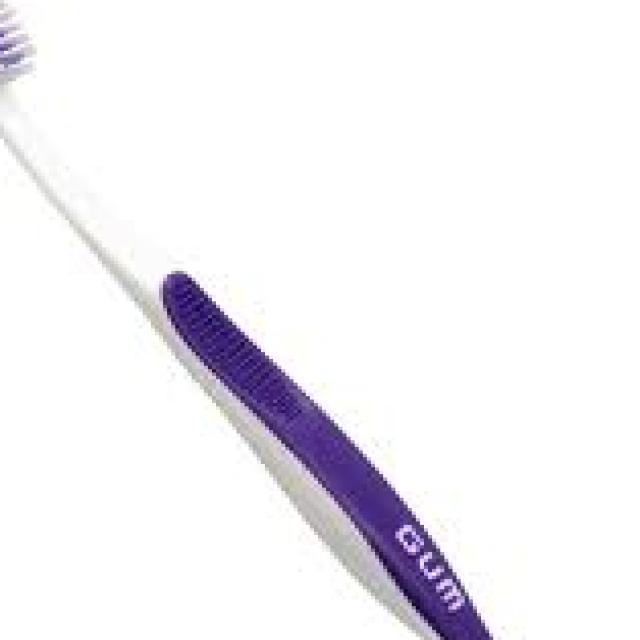organic: (1, 0, 507, 628)
